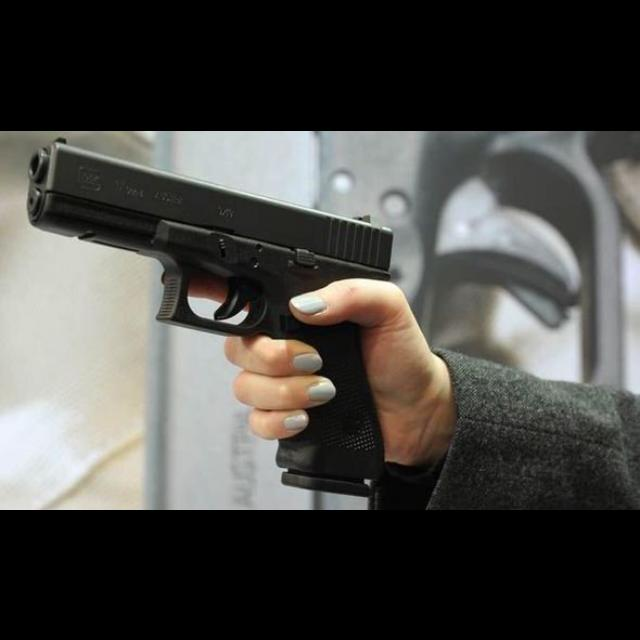handgun: (22, 133, 396, 339)
